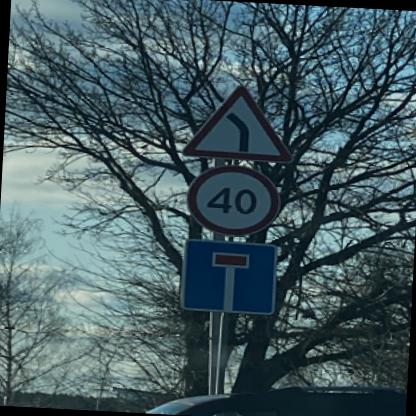speedlimit: (182, 161, 281, 236)
